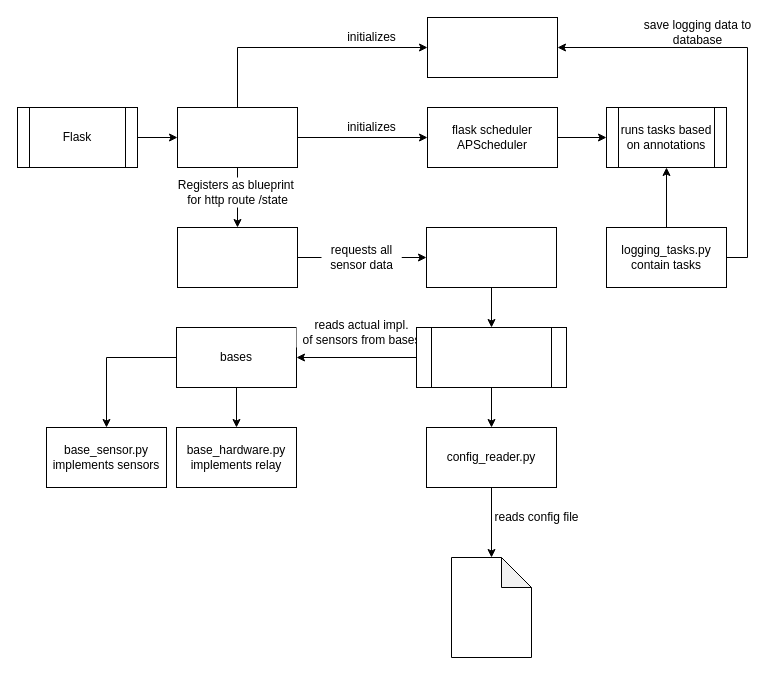
This 775x675 diagram has some shape labels left out. Here are the shapes that lost their labels. From the top down, the centre of each, then its label:
At point 492,47: "db_handler.py handles sqlitedb".
At point 237,137: "core.__init__() + app".
At point 237,257: "state_control.py".
At point 491,257: "hardware_controller.py".
At point 491,357: "reads data from dict of all hardware defined in config".
At point 491,607: "config.yaml".
